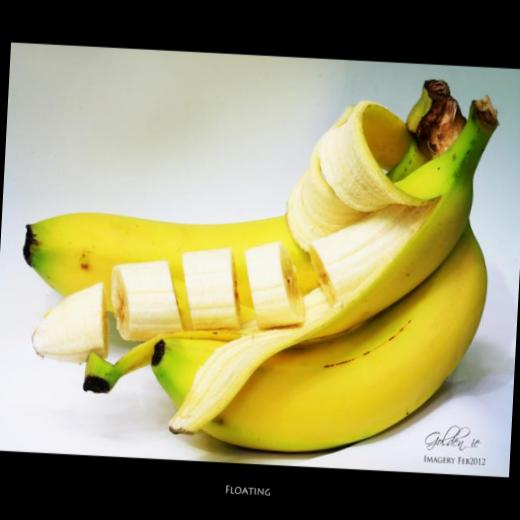Banana: (166, 80, 490, 452), (20, 118, 428, 329), (29, 276, 109, 366), (110, 256, 190, 344), (239, 240, 310, 336), (180, 249, 242, 332)
